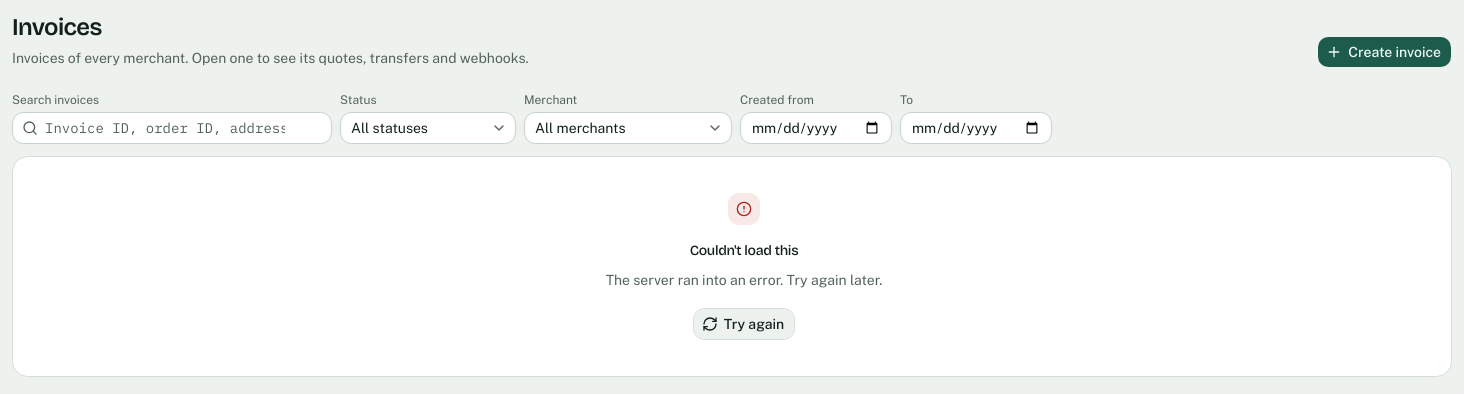
Test: InvoicesPage › shows an error with retry
What coordinates should you click on to do the following:
click the button "Try again"
I would click on:
 (744, 324)
Its box is [693,308,795,340].
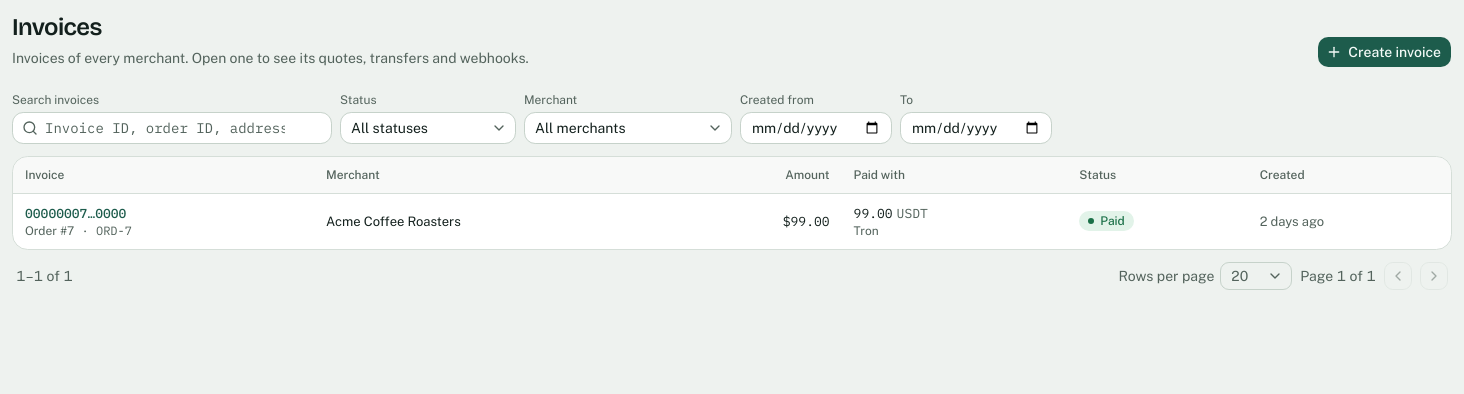
Result: the text "Order #7" is shown at [25,224,74,238]
